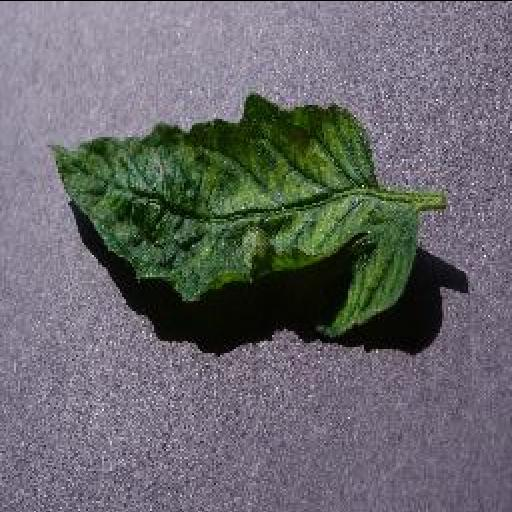disease_tomato: (46, 90, 422, 338)
